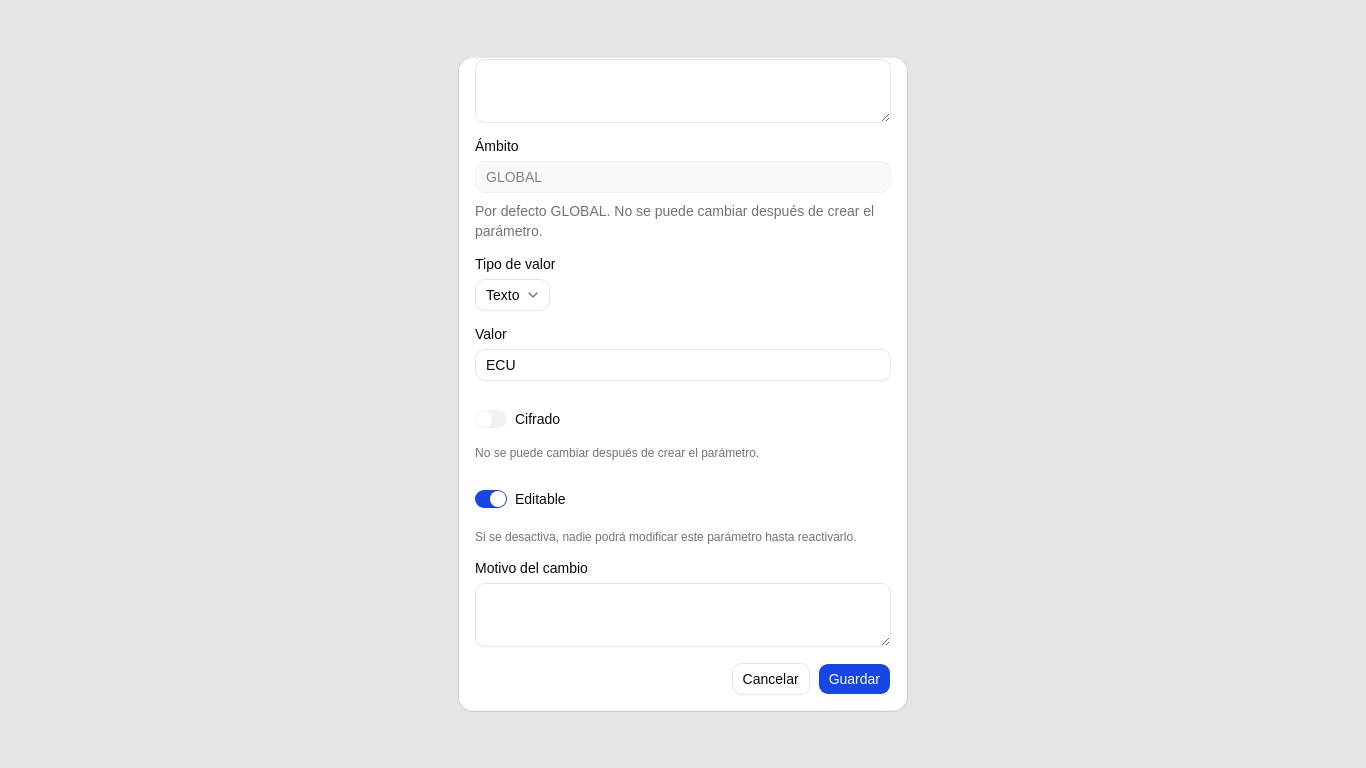
Scenario: SystemConfigFormDialog — SPEC FE19 §4 paso 5 › un 409 SYSCONF_004_NOT_EDITABLE aparece sobre el campo isEditable
The width and height of the screenshot is (1366, 768).
(page scrolled)
Expected: the field labelled "Valor" is shown, [475,349,891,381]
Click the button "Guardar".
click(854, 679)  # box [818,663,891,695]
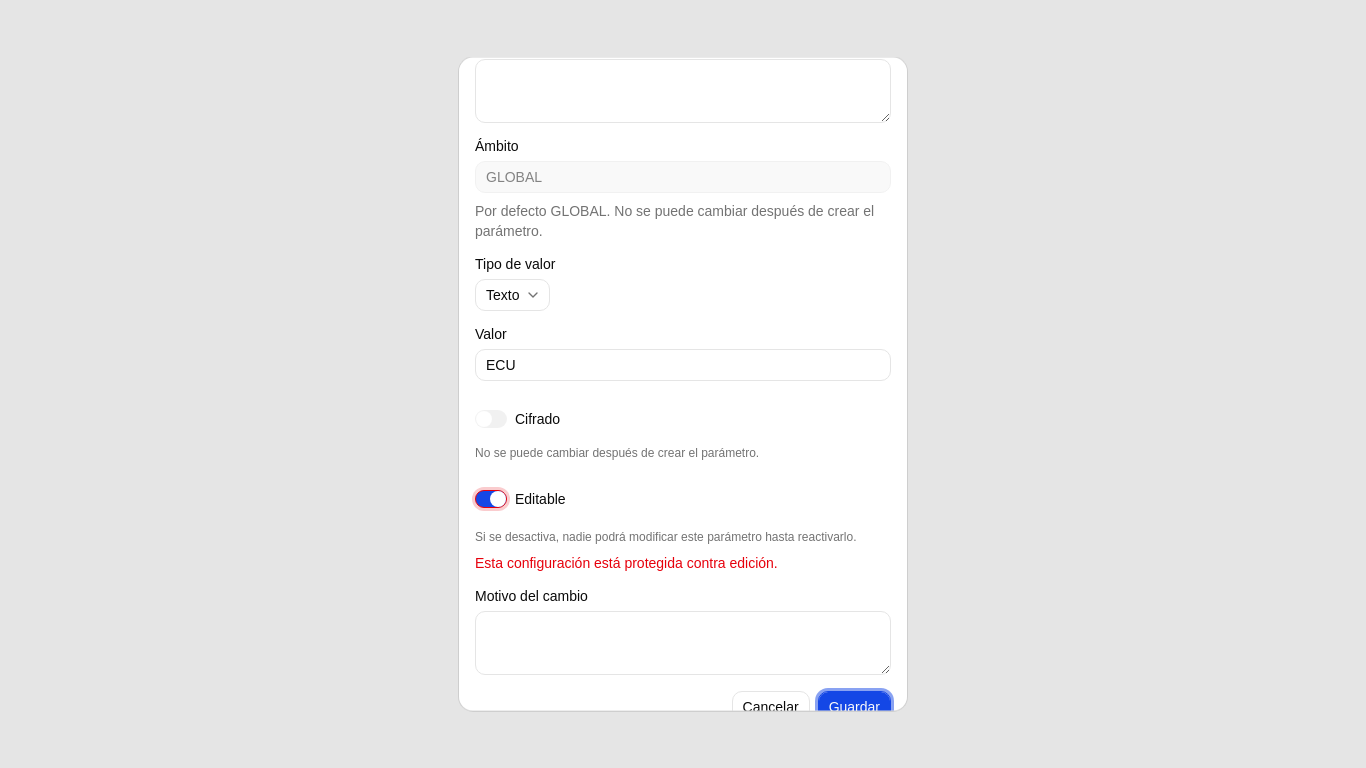
Expected: the text "Esta configuración está protegida contra edición." is shown, [475,555,778,571]
